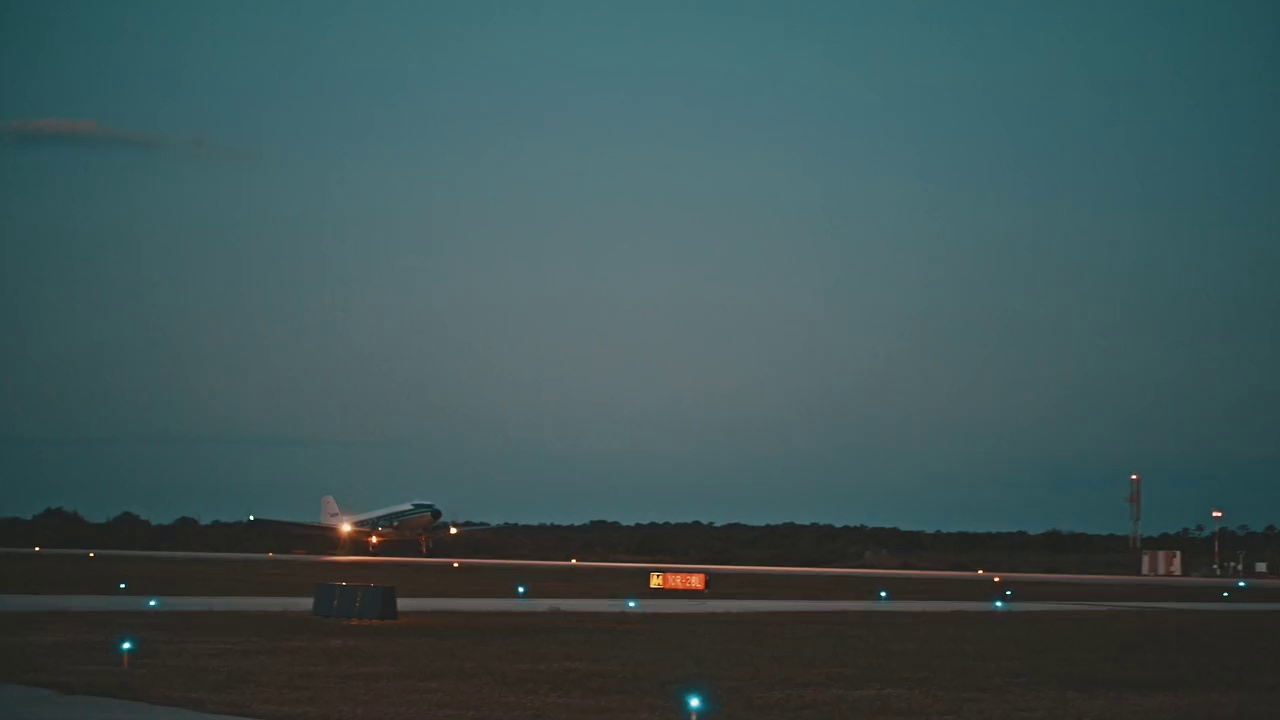plane: (249, 493, 515, 559)
